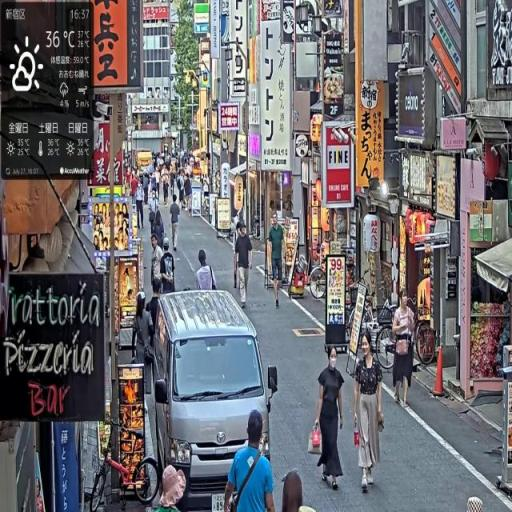person: (225, 411, 276, 512), (355, 331, 384, 492), (316, 347, 345, 491), (393, 291, 415, 408), (133, 293, 155, 393), (235, 223, 254, 309), (269, 214, 285, 308), (157, 466, 187, 512), (283, 471, 304, 512), (161, 238, 176, 295), (197, 251, 218, 291), (148, 281, 163, 328), (152, 235, 164, 284), (171, 196, 181, 252), (136, 180, 146, 230), (149, 192, 160, 234), (154, 211, 166, 248), (185, 175, 193, 217), (144, 173, 151, 205)
